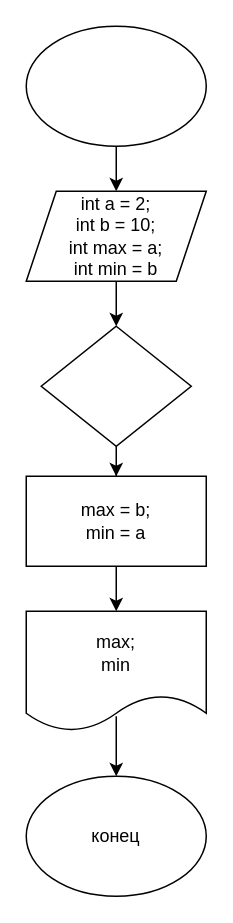
Some shapes in this 233 by 923 pixel diagram are drawn without their labels. The centre of each missing label's shape, as x and y in pixels:
"b > a" belongs at [115,385].
"Начало" belongs at [115,85].
